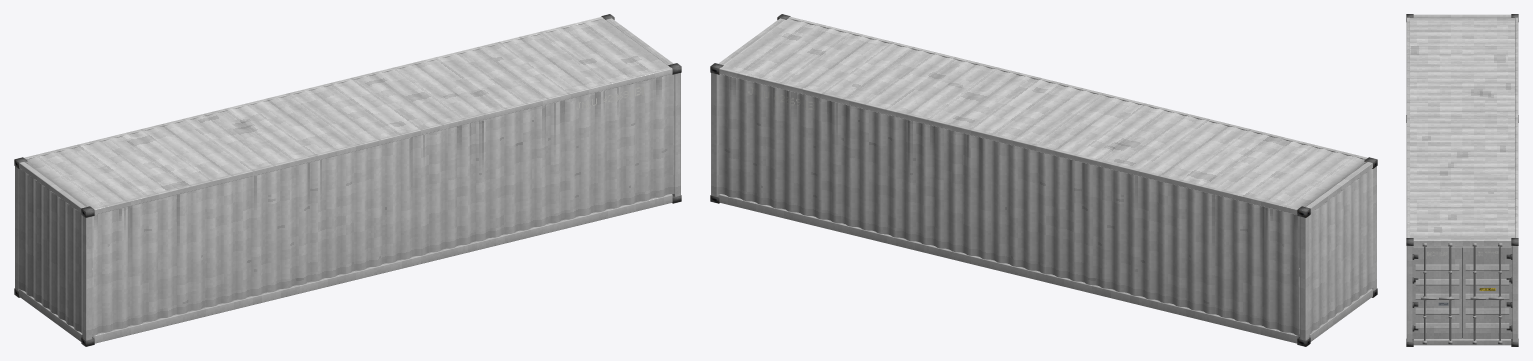
Rendered from p_container.glb.
3 renders of one model, left to right at view 1: azimuth 30°, elevation 25°; view 2: azimuth 150°, elevation 25°; view 3: azimuth 270°, elevation 25°, orthographic. The views are drawn at different scales.
Visible parts, largest first — view 1: container_lod0; view 2: container_lod0; view 3: container_lod0.
Boxes of the visible parts, <box> form: container_lod0: <box>14,14,681,346</box>; container_lod0: <box>710,14,1377,346</box>; container_lod0: <box>1406,14,1518,346</box>.
Size of what is drawn, in the model's own units: 12 by 2.6 by 2.5.
3 materials, 3 textured.
